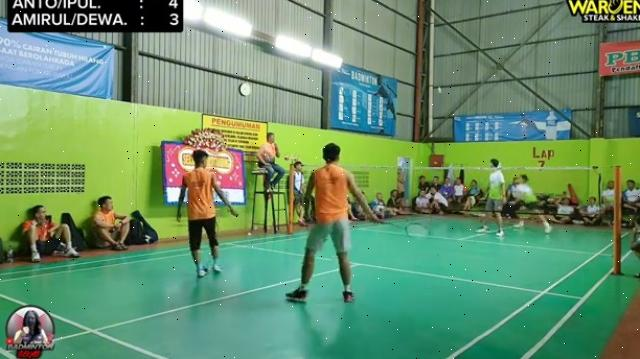Shuttlecock: (436, 82, 446, 96)
